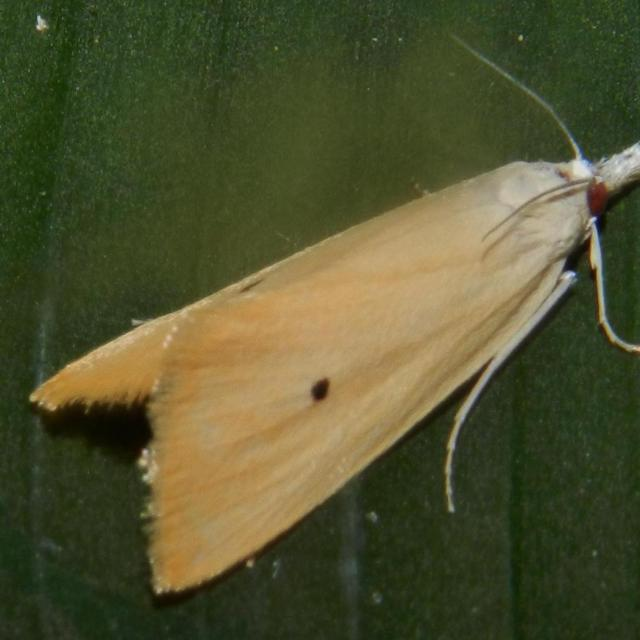yellow-stem-borer: (27, 83, 640, 608)
